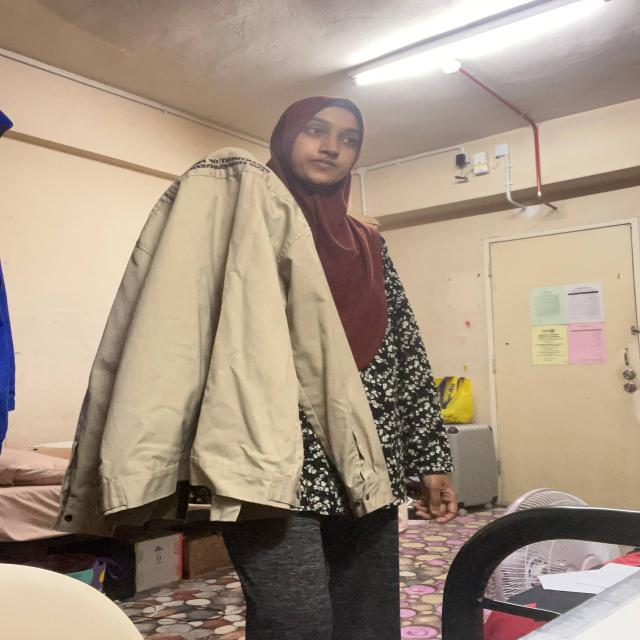person_without_labcoat: (58, 96, 457, 640)
